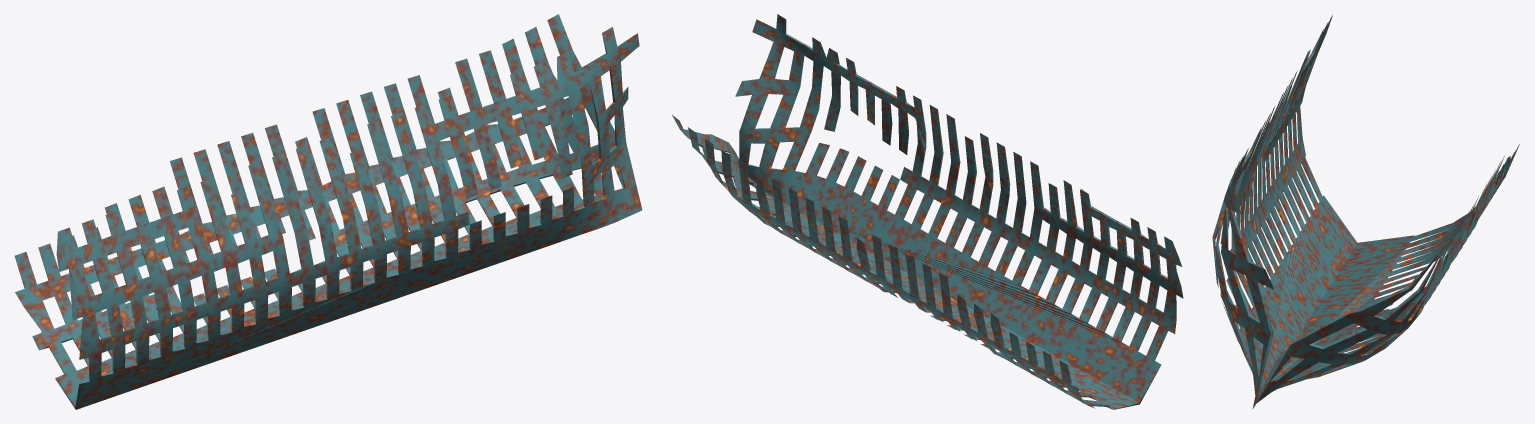
Rendered from shipwreck.glb.
3 renders of one model, left to right at view 1: azimuth 30°, elevation 25°; view 2: azimuth 150°, elevation 25°; view 3: azimuth 270°, elevation 25°, orthographic. The views are drawn at different scales.
Size of the model in its own units: 132 by 69.41 by 56.79.
1 material, 1 textured.
